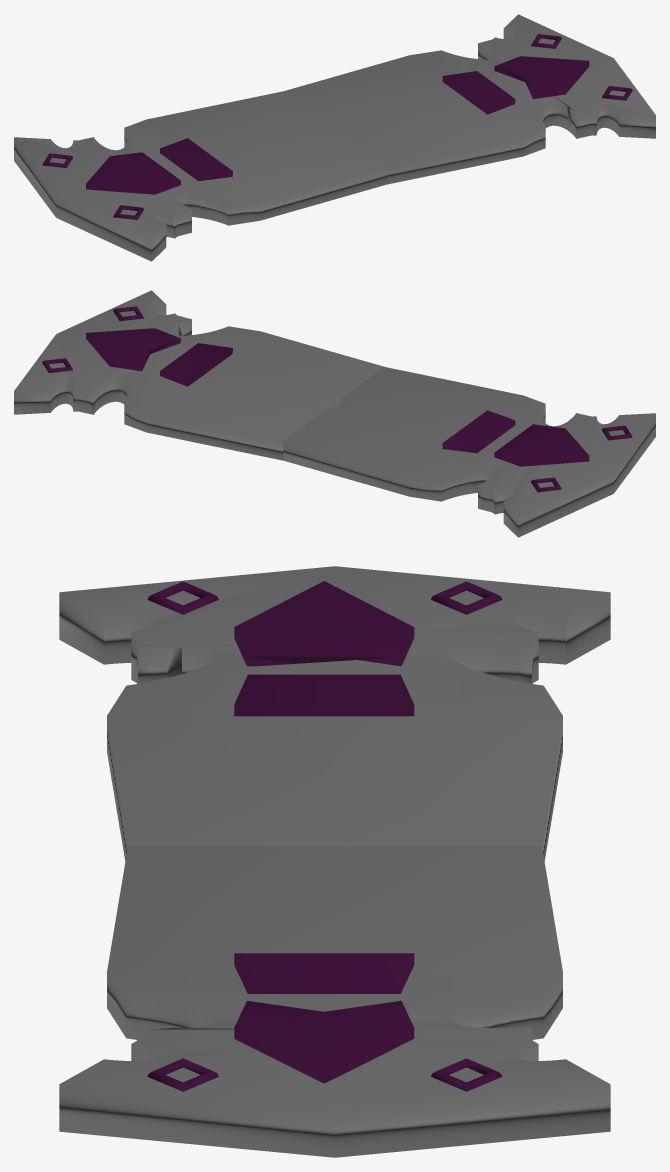
Rendered from AnvilBase.fbx.
3 views of the same model, one above another, from view 1: azimuth 30°, elevation 25°; view 2: azimuth 150°, elevation 25°; view 3: azimuth 270°, elevation 25° (orthographic). The views are drawn at different scales.
Parts seen in each view (by area): view 1: Anvil Base; view 2: Anvil Base; view 3: Anvil Base.
Boxes of the visible parts, x1,y1,x2,y2 form: Anvil Base: (14,14,655,261); Anvil Base: (14,290,655,537); Anvil Base: (59,566,610,1157).
Size of the model in its own units: 214 by 10.84 by 91.52.
Materials: 2 (1 with a texture image).
